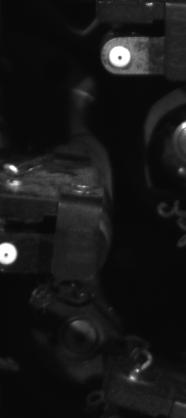fiber: (107, 44, 136, 70), (1, 239, 20, 271)
